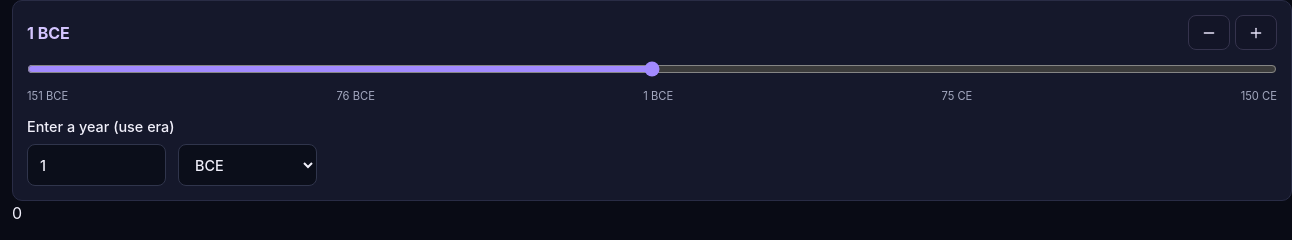
Test: can enter a BCE date with a keyboard-accessible year field
The width and height of the screenshot is (1292, 240).
Replace the text in the number field labelled "year" with "44" at [96, 165], box left=27, top=144, right=166, bottom=186
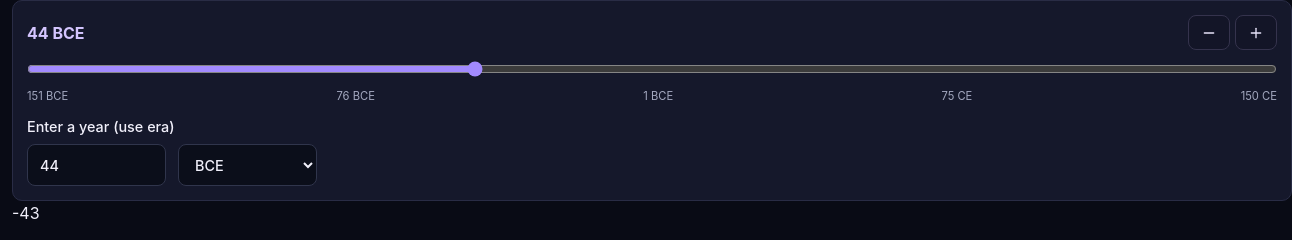
Expected: the text "-43" is shown, left=12, top=203, right=40, bottom=223
